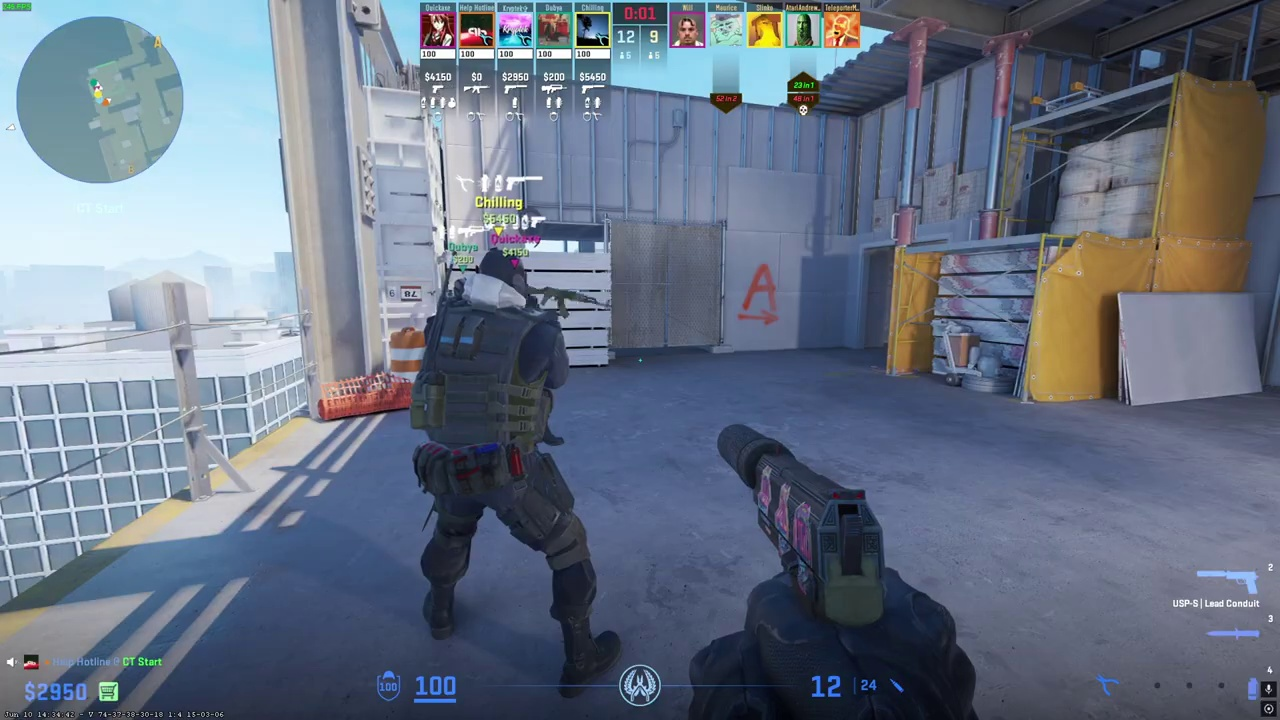CT: (411, 252, 596, 683)
